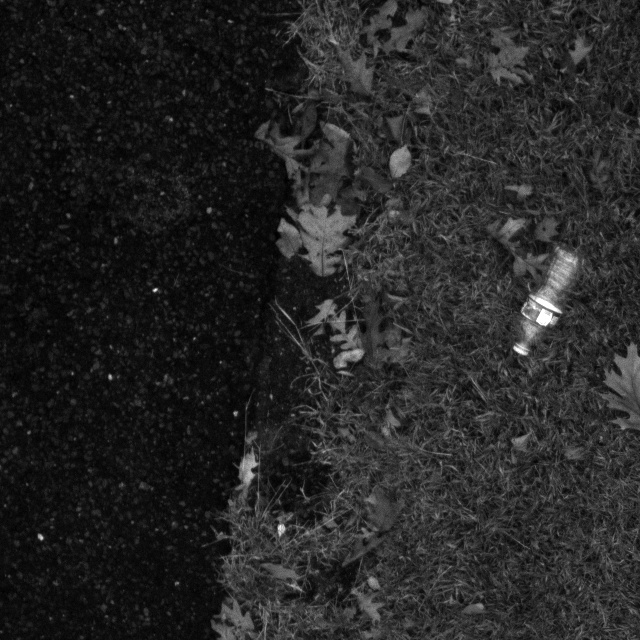bottle: (508, 236, 585, 367)
